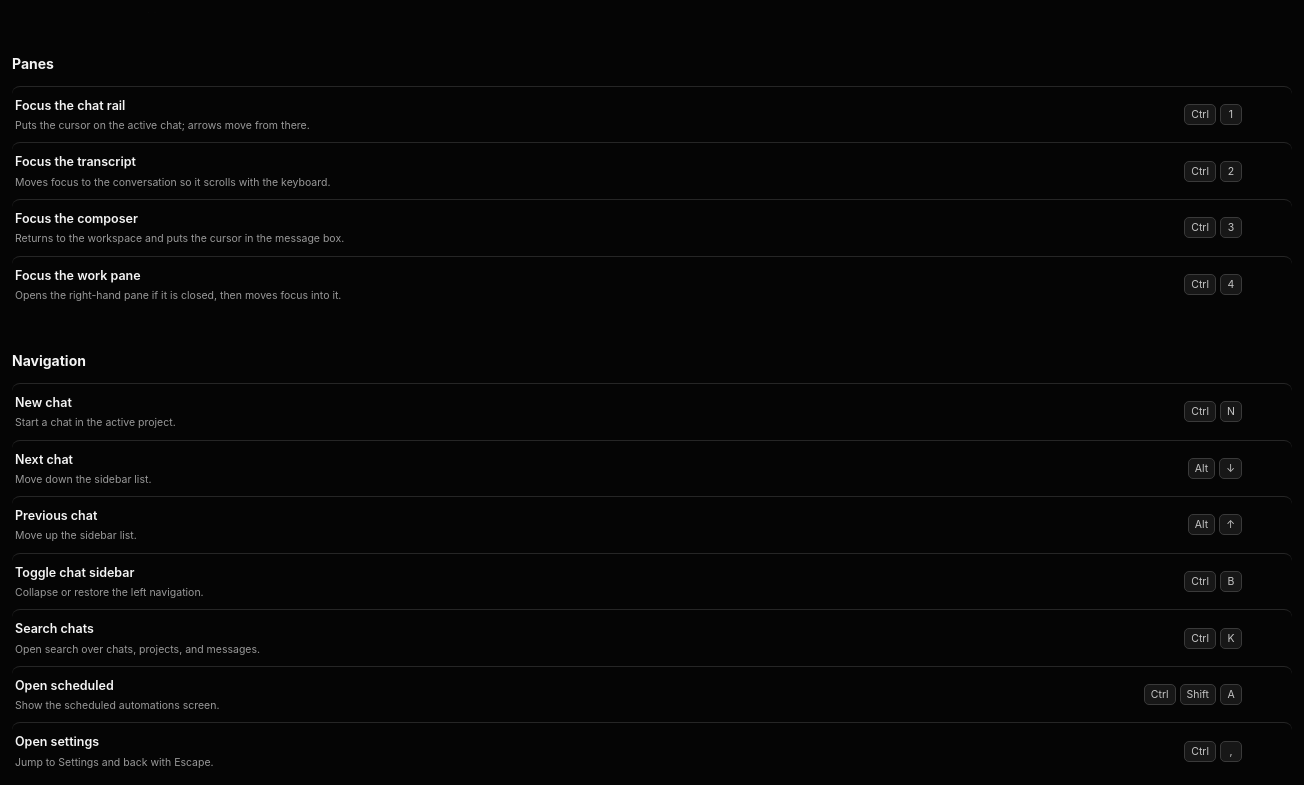
Test case: KeybindingsSettings › records a new binding and persists it canonically
(page scrolled)
Click the button with aria-label "Change the shortcut". click: (1193,412)
box: [1134,396,1252,427]
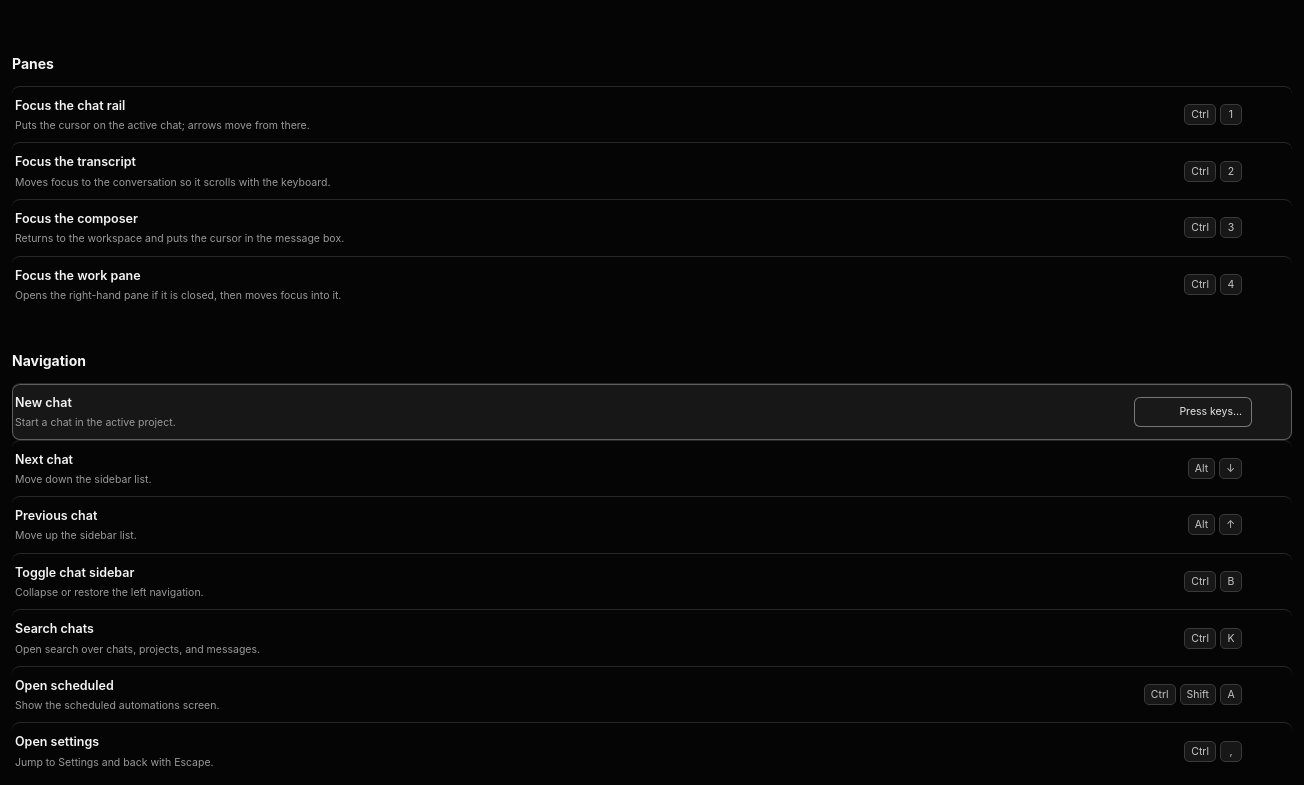
Press N
(page scrolled)
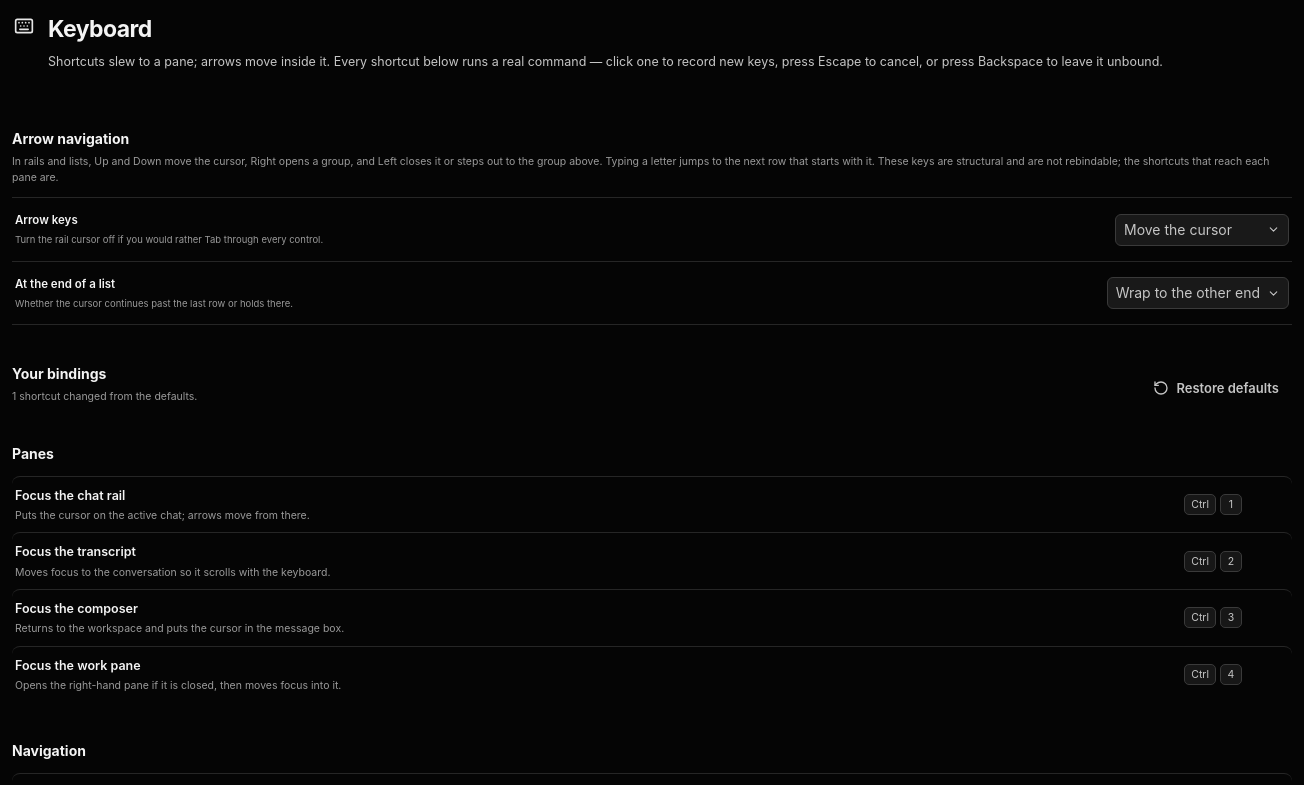
Expected: the text "1 shortcut changed from the defaults." is shown, [12,389,197,405]
